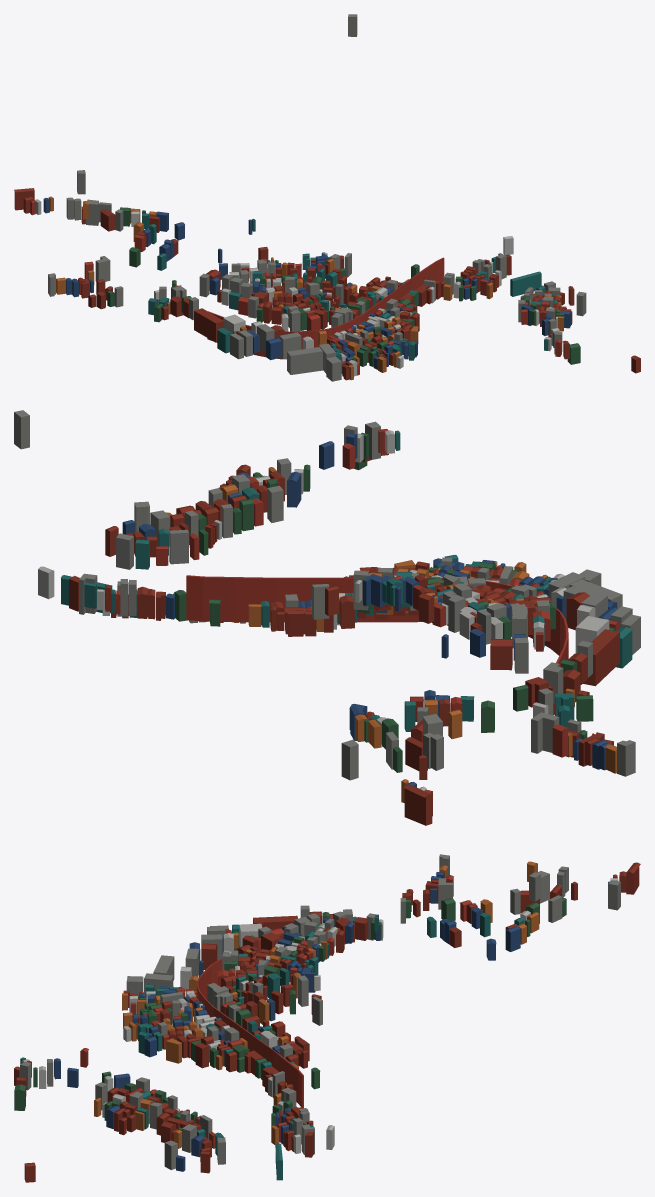
Rendered from near-16-54723-29748.1a9e6fa2.glb.
3 renders of one model, top to bottom at view 1: azimuth 30°, elevation 25°; view 2: azimuth 150°, elevation 25°; view 3: azimuth 270°, elevation 25°, orthographic. The views are drawn at different scales.
Bounding box in the file's own units: 558 × 275 × 593.
